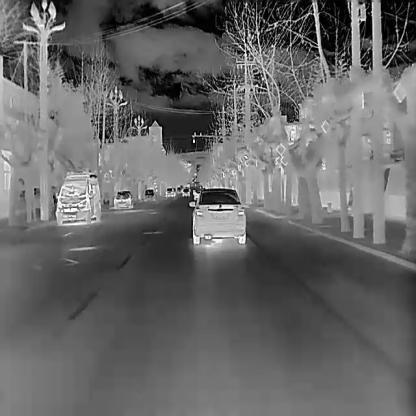car: (192, 187, 245, 243), (56, 173, 100, 224), (113, 190, 132, 208), (145, 189, 156, 198), (165, 187, 175, 196), (182, 188, 188, 196)
